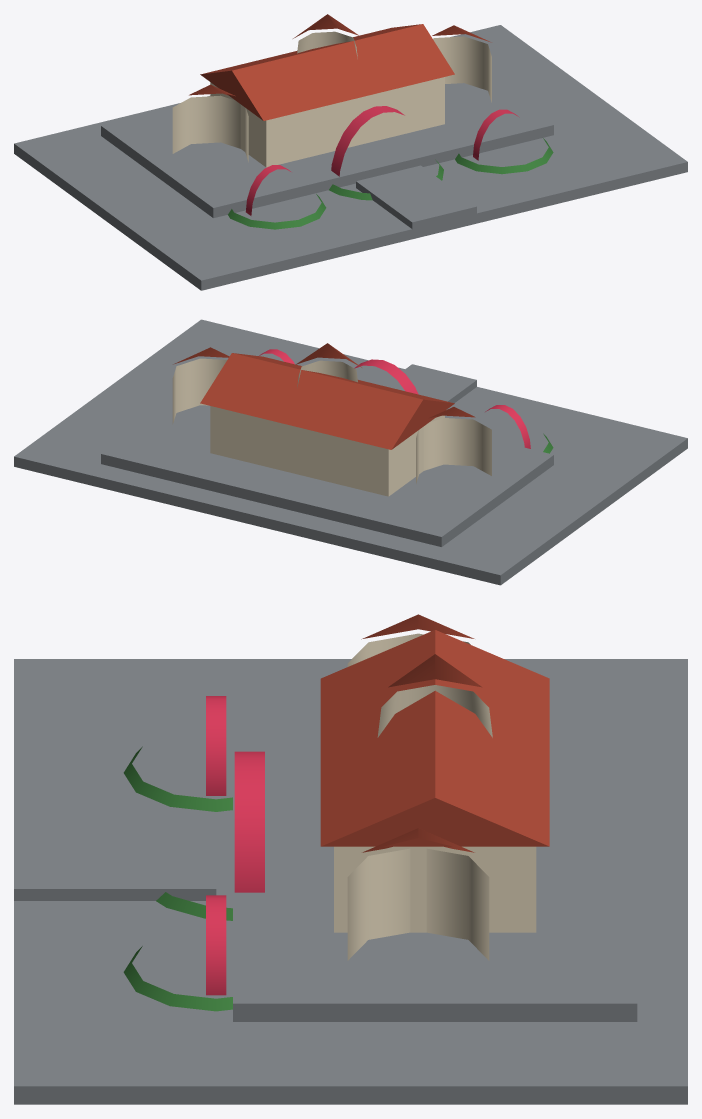
The model's file is lm_17_thung_lung_tinh_yeu_pavilion.glb.
3 renders of one model, top to bottom at view 1: azimuth 30°, elevation 25°; view 2: azimuth 150°, elevation 25°; view 3: azimuth 270°, elevation 25°, orthographic. The views are drawn at different scales.
Parts seen in each view (by area): view 1: Hillside_Terrace_Promenade, Pavilion_Belvedere_Walls, Pavilion_Roofs, Floral_Parterres, Floral_Heart_Arches; view 2: Hillside_Terrace_Promenade, Pavilion_Belvedere_Walls, Pavilion_Roofs, Floral_Heart_Arches; view 3: Hillside_Terrace_Promenade, Pavilion_Roofs, Pavilion_Belvedere_Walls, Floral_Heart_Arches, Floral_Parterres.
Part boxes in pixels (x1,y1,x2,y2): Hillside_Terrace_Promenade: (14, 25, 687, 290); Pavilion_Belvedere_Walls: (172, 31, 491, 167); Pavilion_Roofs: (189, 14, 491, 120); Floral_Parterres: (228, 138, 553, 229); Floral_Heart_Arches: (245, 106, 519, 215); Hillside_Terrace_Promenade: (14, 319, 687, 585); Pavilion_Belvedere_Walls: (172, 358, 491, 496); Pavilion_Roofs: (173, 343, 475, 449); Floral_Heart_Arches: (259, 349, 530, 448); Hillside_Terrace_Promenade: (14, 659, 687, 1104); Pavilion_Roofs: (320, 614, 549, 852); Pavilion_Belvedere_Walls: (334, 633, 536, 960); Floral_Heart_Arches: (206, 696, 264, 995); Floral_Parterres: (123, 746, 232, 1011).
Bounding box in the file's own units: 60 × 15.5 × 40.
